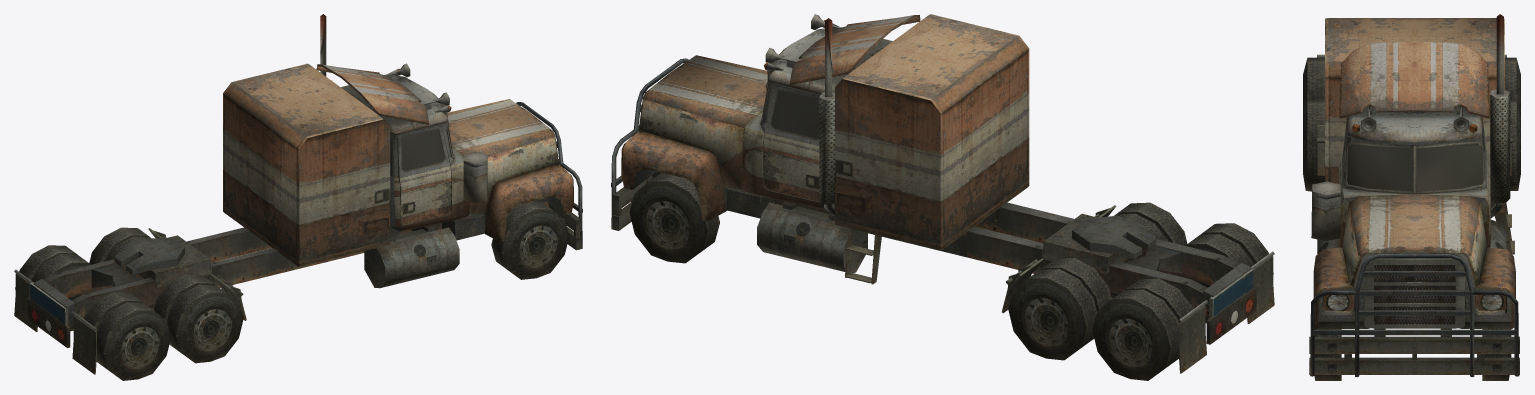
Rendered from Cover_Truck02.glb.
3 views of the same model, side by side, from view 1: azimuth 30°, elevation 25°; view 2: azimuth 150°, elevation 25°; view 3: azimuth 270°, elevation 25° (orthographic). The views are drawn at different scales.
Visible parts, largest first — view 1: xiutz_truck_02; view 2: xiutz_truck_02; view 3: xiutz_truck_02.
Boxes of the visible parts, x1,y1,x2,y2 form: xiutz_truck_02: [14, 14, 582, 380]; xiutz_truck_02: [611, 14, 1274, 380]; xiutz_truck_02: [1303, 14, 1520, 380].
Size of the model in its own units: 13.85 by 6.44 by 4.5.
Materials: 1 (1 with a texture image).
